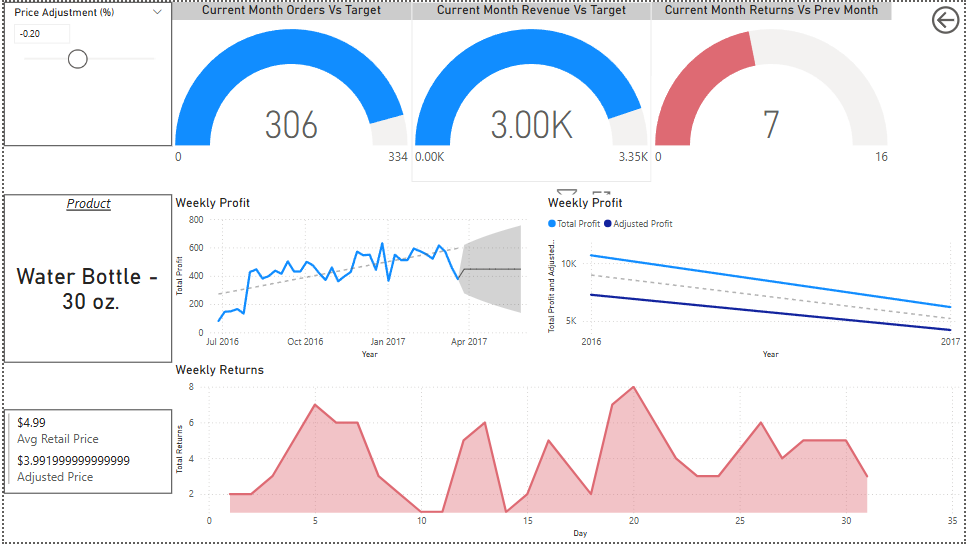

What the dashboard file says about the page in this screenshot:
{"tool":"powerbi","page":{"name":"Product Detail","canvas":[1280,720],"ordinal":1},"visuals":[{"type":"areaChart","title":"Weekly Returns","fields":{"Category":["AW_Calendar.Start of Week.Variation.Date Hierarchy.Day"],"Y":["AW_Returns.Total Returns"]},"box":[224,480,1056,240],"z":0},{"type":"lineChart","title":"Weekly Profit","fields":{"Y":["AW_Sales_2015-2017.Total Profit"],"Category":["AW_Calendar.Start of Week.Variation.Date Hierarchy.Year","AW_Calendar.Start of Week.Variation.Date Hierarchy.Quarter","AW_Calendar.Start of Week.Variation.Date Hierarchy.Month","AW_Calendar.Start of Week.Variation.Date Hierarchy.Day"]},"box":[224,256,496,224],"z":1000},{"type":"gauge","title":"Current Month Orders Vs Target","fields":{"Y":["AW_Sales_2015-2017.Total Orders"],"MaxValue":["AW_Sales_2015-2017.Order Target"]},"box":[224,0,320,240],"z":2000},{"type":"gauge","title":"Current Month Revenue Vs Target","fields":{"MaxValue":["AW_Sales_2015-2017.Revenue Target"],"Y":["AW_Sales_2015-2017.Total_Revenue"]},"box":[544,0,320,240],"z":3000},{"type":"gauge","title":"Current Month Returns Vs Prev Month","fields":{"Y":["AW_Returns.Total Returns"],"MaxValue":["AW_Returns.Prev Month Returns"]},"box":[864,0,320,240],"z":4000},{"type":"card","title":"Product","fields":{"Values":["Min(AW_Products.ProductName)"]},"box":[0,256,224,224],"z":5000},{"type":"actionButton","box":[1232,0,48,48],"z":6000},{"type":"slicer","fields":{"Values":["Price Adjustment (%).Price Adjustment (%)"]},"box":[0,0,224,192],"z":7000},{"type":"multiRowCard","fields":{"Values":["AW_Products.Avg Retail Price","AW_Products.Adjusted Price"]},"box":[0,544,224,112],"z":7001},{"type":"lineChart","title":"Weekly Profit","fields":{"Y":["AW_Sales_2015-2017.Total Profit","AW_Sales_2015-2017.Adjusted Profit"],"Category":["AW_Calendar.Start of Week.Variation.Date Hierarchy.Year","AW_Calendar.Start of Week.Variation.Date Hierarchy.Quarter","AW_Calendar.Start of Week.Variation.Date Hierarchy.Month","AW_Calendar.Start of Week.Variation.Date Hierarchy.Day"]},"box":[720,256,560,224],"z":7002}]}

Visuals, with their boxes in screenshot pixels (x1, y1, x2, y2), scaled from the page's 1280x720 canvas onto the 970x546 screenshot:
"Weekly Returns" areaChart: region(170, 364, 969, 545)
"Weekly Profit" lineChart: region(170, 194, 546, 364)
"Current Month Orders Vs Target" gauge: region(170, 0, 412, 182)
"Current Month Revenue Vs Target" gauge: region(412, 0, 655, 182)
"Current Month Returns Vs Prev Month" gauge: region(655, 0, 897, 182)
"Product" card: region(0, 194, 170, 364)
actionButton: region(934, 0, 969, 36)
slicer - Price Adjustment (%).Price Adjustment (%): region(0, 0, 170, 146)
multiRowCard - AW_Products.Avg Retail Price x AW_Products.Adjusted Price: region(0, 413, 170, 497)
"Weekly Profit" lineChart: region(546, 194, 969, 364)
